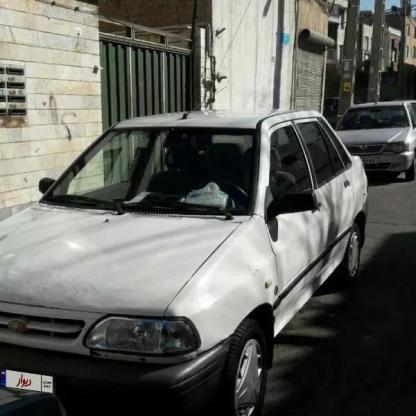Car: (0, 109, 357, 416), (335, 98, 416, 188)
